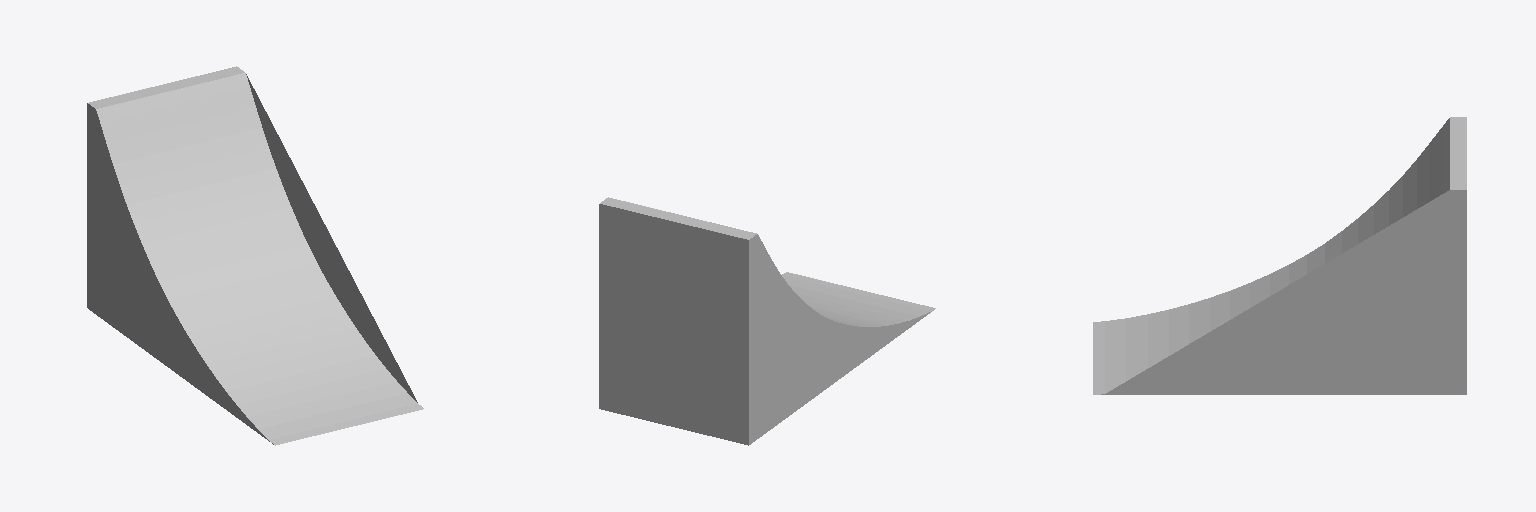
Rendered from Rampa_A2-1.obj.
3 renders of one model, left to right at view 1: azimuth 30°, elevation 25°; view 2: azimuth 150°, elevation 25°; view 3: azimuth 270°, elevation 25°, orthographic.
Parts seen in each view (by area): view 1: Rampa_A2-1_Cube.004; view 2: Rampa_A2-1_Cube.004; view 3: Rampa_A2-1_Cube.004.
Boxes of the visible parts, box(x1,y1,x2,y2) form: Rampa_A2-1_Cube.004: box(87, 66, 423, 445); Rampa_A2-1_Cube.004: box(599, 197, 935, 445); Rampa_A2-1_Cube.004: box(1093, 117, 1466, 394).
Size of the model in its own units: 2 by 2.63 by 4.34.